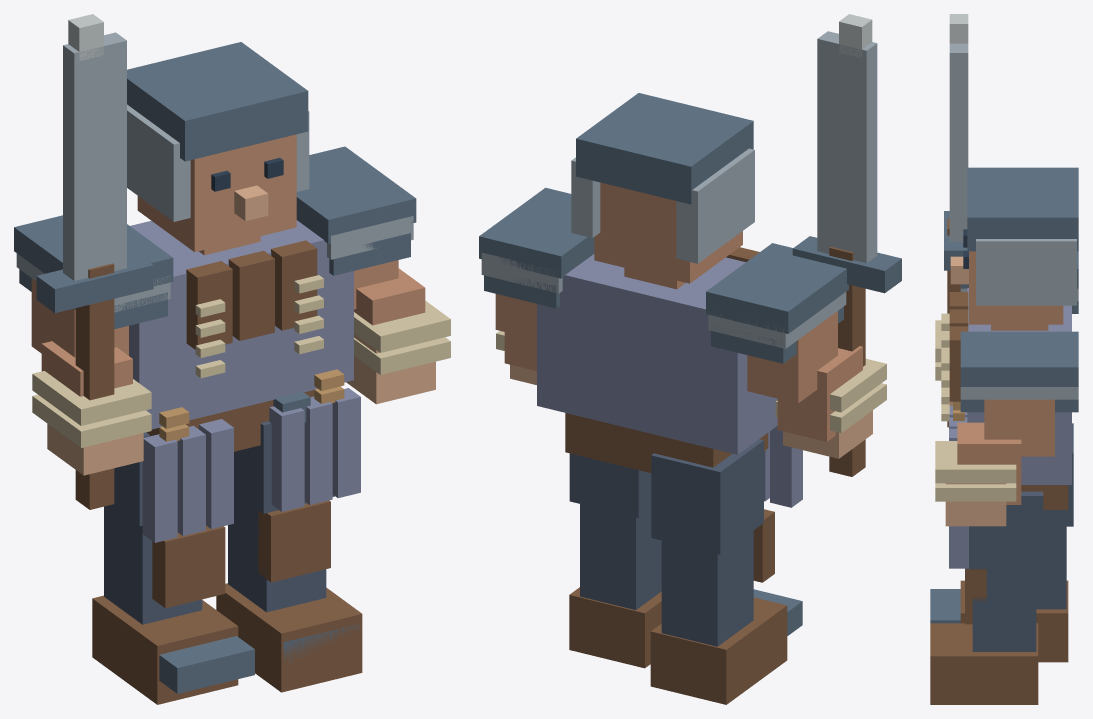
The model's file is arena-q-swordsman.glb.
3 views of the same model, side by side, from view 1: azimuth 30°, elevation 25°; view 2: azimuth 150°, elevation 25°; view 3: azimuth 270°, elevation 25° (orthographic). The views are drawn at different scales.
Visible parts, largest first — view 1: Weapon, Boots, Helmet, Cloth, Skirt, Shoulders, Legs, Wraps, Greaves, Head, Vest, Arms (+4 smaller); view 2: Cloth, Legs, Helmet, Shoulders, Weapon, Boots, Arms, Head, Belt, Wraps, Skirt, Hands (+1 smaller); view 3: Helmet, Legs, Boots, Shoulders, Arms, Weapon, Wraps, Cloth, Head, Hands, Vest, Skirt (+4 smaller).
Part boxes in pixels (x1=…): Weapon: x1=36, y1=14, x2=153, y2=509; Boots: x1=92, y1=583, x2=362, y2=704; Helmet: x1=127, y1=42, x2=309, y2=221; Cloth: x1=129, y1=220, x2=353, y2=429; Skirt: x1=142, y1=388, x2=360, y2=542; Shoulders: x1=14, y1=146, x2=416, y2=329; Legs: x1=104, y1=421, x2=334, y2=624; Wraps: x1=32, y1=301, x2=450, y2=447; Greaves: x1=152, y1=500, x2=330, y2=608; Head: x1=137, y1=134, x2=296, y2=255; Vest: x1=186, y1=240, x2=317, y2=349; Arms: x1=31, y1=260, x2=425, y2=396; Cloth: x1=537, y1=254, x2=777, y2=454; Legs: x1=569, y1=439, x2=763, y2=646; Helmet: x1=571, y1=93, x2=754, y2=263; Shoulders: x1=479, y1=187, x2=848, y2=363; Weapon: x1=792, y1=14, x2=901, y2=476; Boots: x1=569, y1=587, x2=802, y2=704; Arms: x1=495, y1=294, x2=862, y2=441; Head: x1=594, y1=182, x2=742, y2=289; Belt: x1=565, y1=413, x2=768, y2=472; Wraps: x1=496, y1=331, x2=886, y2=433; Skirt: x1=764, y1=426, x2=802, y2=507; Hands: x1=510, y1=364, x2=872, y2=458; Helmet: x1=967, y1=167, x2=1078, y2=305; Legs: x1=966, y1=423, x2=1073, y2=651; Boots: x1=930, y1=580, x2=1068, y2=704; Shoulders: x1=960, y1=251, x2=1078, y2=412; Arms: x1=957, y1=399, x2=1054, y2=504; Weapon: x1=944, y1=14, x2=968, y2=427; Wraps: x1=935, y1=320, x2=1016, y2=501; Cloth: x1=967, y1=288, x2=1071, y2=484; Head: x1=969, y1=251, x2=1063, y2=330; Hands: x1=945, y1=401, x2=1006, y2=526; Vest: x1=949, y1=292, x2=968, y2=401; Skirt: x1=949, y1=406, x2=968, y2=568.
Bounding box in the file's own units: 1.05 × 1.8 × 0.4157.
